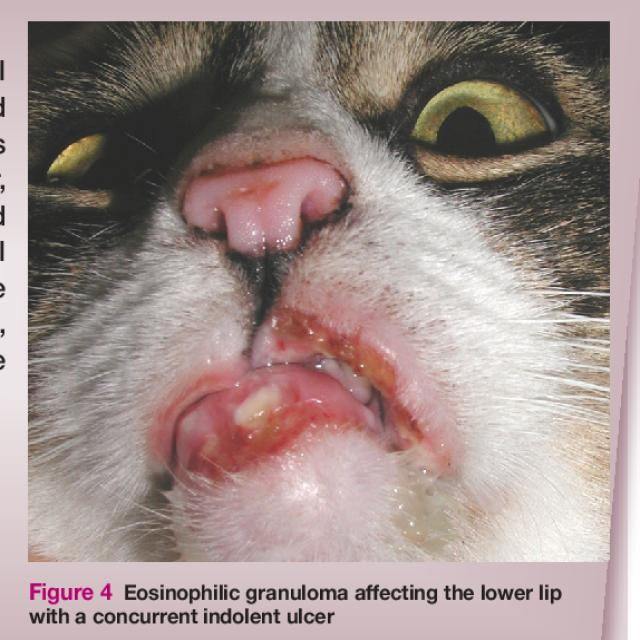cat-ulcer: (112, 276, 467, 528)
